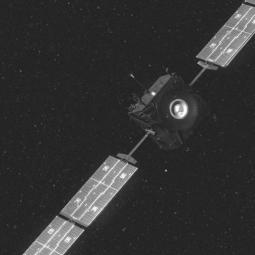smart_1: (79, 37, 236, 195)
